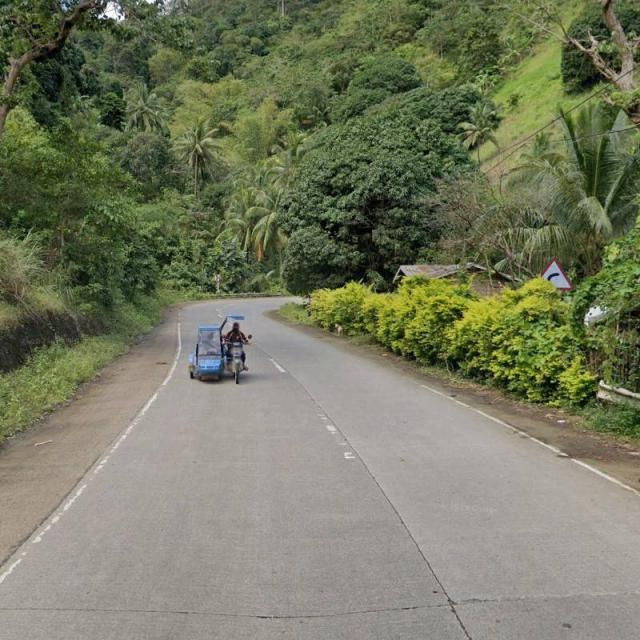warn_right_curve: (532, 258, 574, 291)
